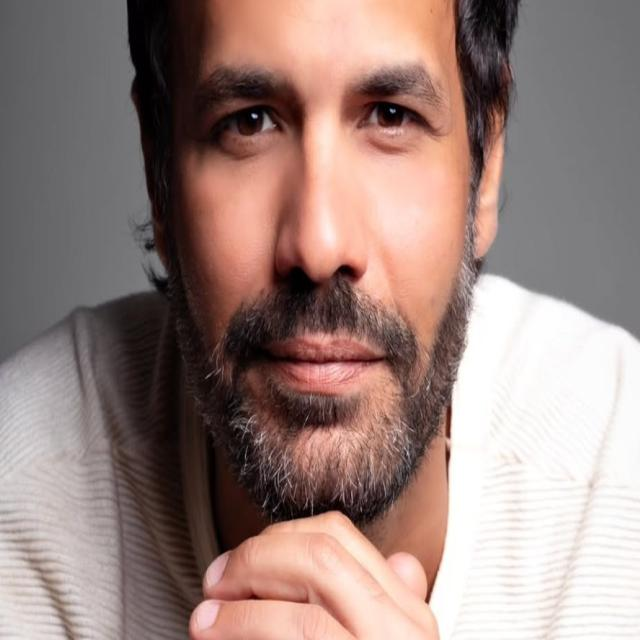sem_oculos: (150, 40, 504, 189)
